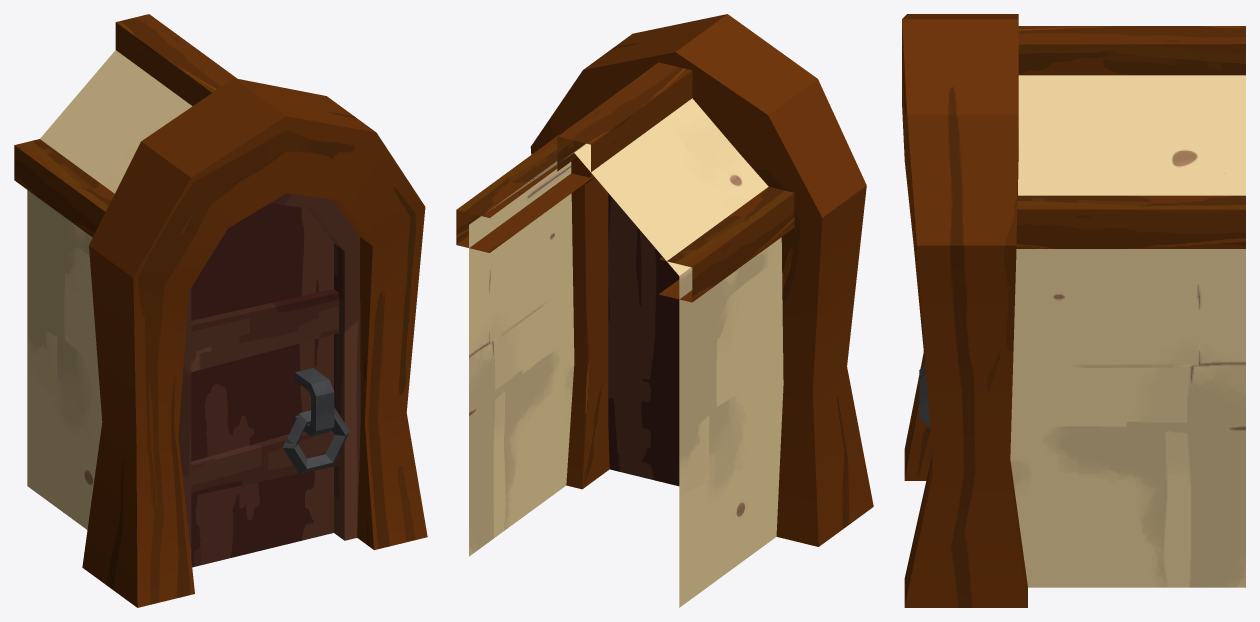
The model's file is SM_BLD_door_v03_01.fbx.
The picture shows the model from 3 angles, left to right: view 1: azimuth 30°, elevation 25°; view 2: azimuth 150°, elevation 25°; view 3: azimuth 270°, elevation 25°; orthographic projection. The views are drawn at different scales.
Parts seen in each view (by area): view 1: SM_BLD_door_v03_01; view 2: SM_BLD_door_v03_01; view 3: SM_BLD_door_v03_01.
Boxes of the visible parts, x1,y1,x2,y2 form: SM_BLD_door_v03_01: (14,14,427,607); SM_BLD_door_v03_01: (456,14,873,607); SM_BLD_door_v03_01: (902,14,1245,607).
Bounding box in the file's own units: 195 × 290 × 177.
